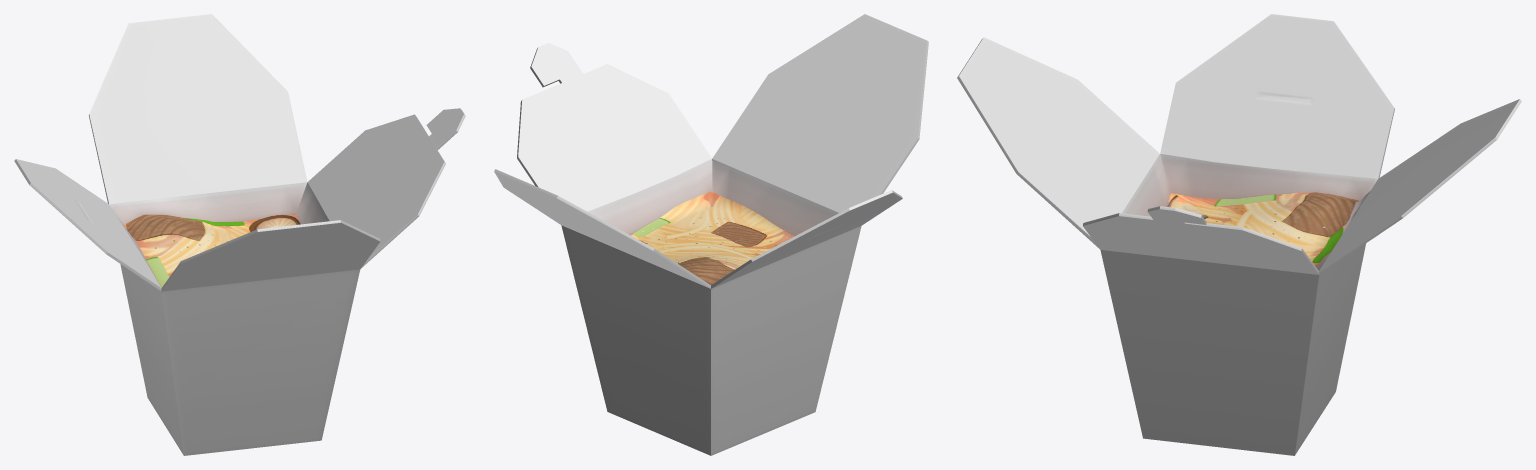
Rendered from Noodle Box.fbx.
The picture shows the model from 3 angles, left to right: view 1: azimuth 30°, elevation 25°; view 2: azimuth 150°, elevation 25°; view 3: azimuth 270°, elevation 25°; orthographic projection. The views are drawn at different scales.
Visible parts, largest first — view 1: NoodleBox_1; view 2: NoodleBox_1; view 3: NoodleBox_1.
Part boxes in pixels (x1,y1,x2,y2): NoodleBox_1: [14, 14, 465, 455]; NoodleBox_1: [494, 14, 928, 455]; NoodleBox_1: [957, 14, 1521, 455].
Size of the model in its own units: 75.34 by 55.08 by 86.01.
1 material, 1 textured.
